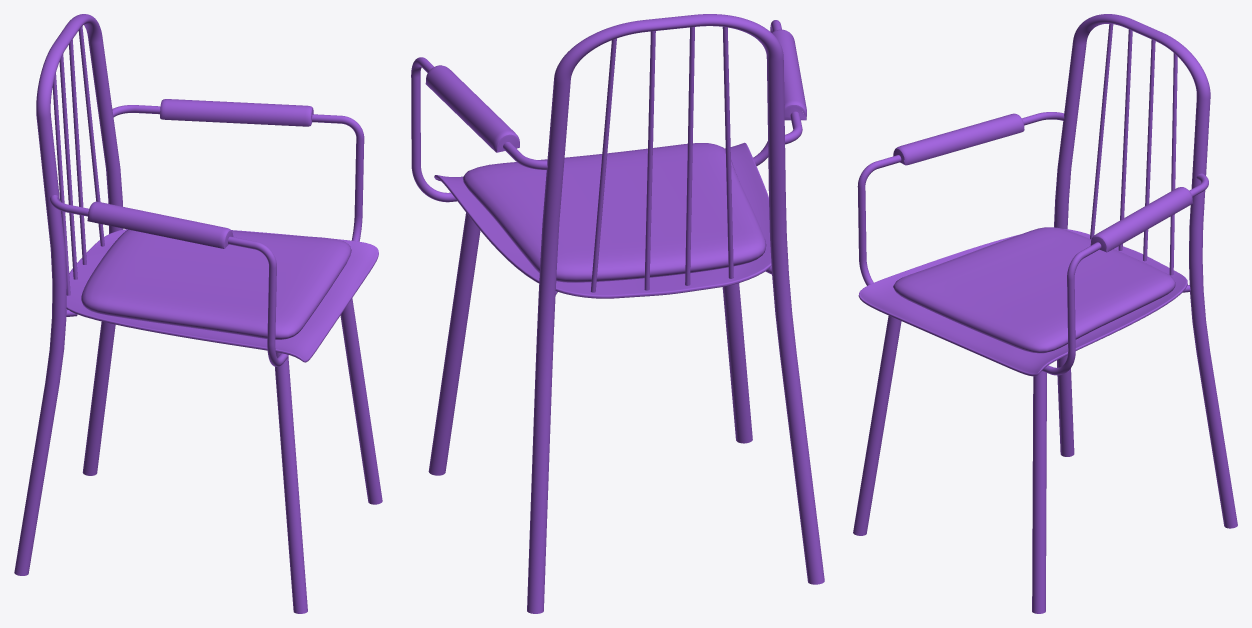
File: WOOD AND METAL CHAIR 2.gltf
3 renders of one model, left to right at view 1: azimuth 30°, elevation 25°; view 2: azimuth 150°, elevation 25°; view 3: azimuth 270°, elevation 25°, orthographic. The views are drawn at different scales.
Parts seen in each view (by area): view 1: Box2131663803; view 2: Box2131663803; view 3: Box2131663803.
Boxes of the visible parts, left/top/right/bottom form: Box2131663803: left=14, top=14, right=382, bottom=613; Box2131663803: left=411, top=14, right=824, bottom=613; Box2131663803: left=853, top=14, right=1237, bottom=613.
Size of the model in its own units: 65.87 by 87.81 by 65.55.
